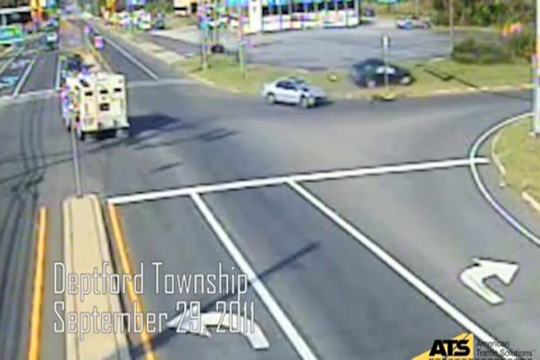car: (61, 67, 134, 135), (263, 72, 321, 106), (350, 57, 413, 87), (392, 12, 431, 31)
